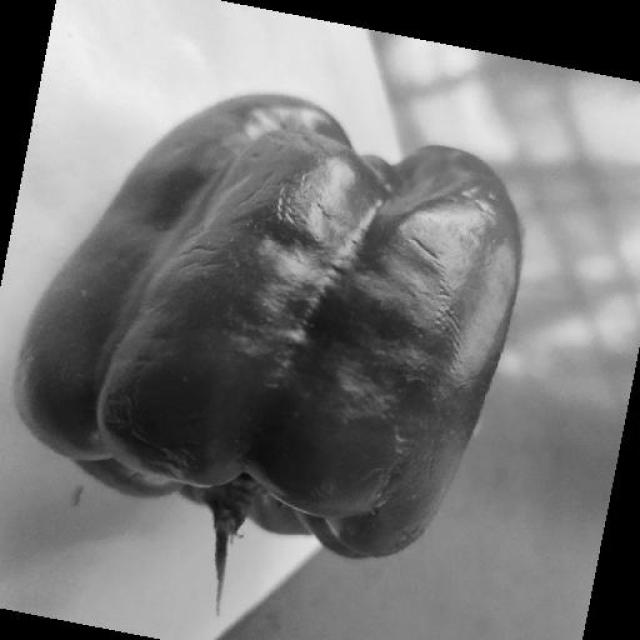Stale_Capsicum: (35, 102, 491, 534)
